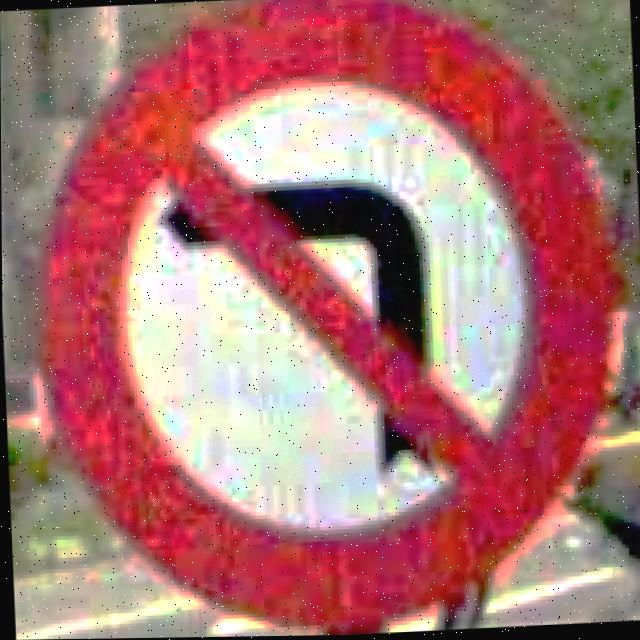noturnleft: (16, 0, 637, 640)
